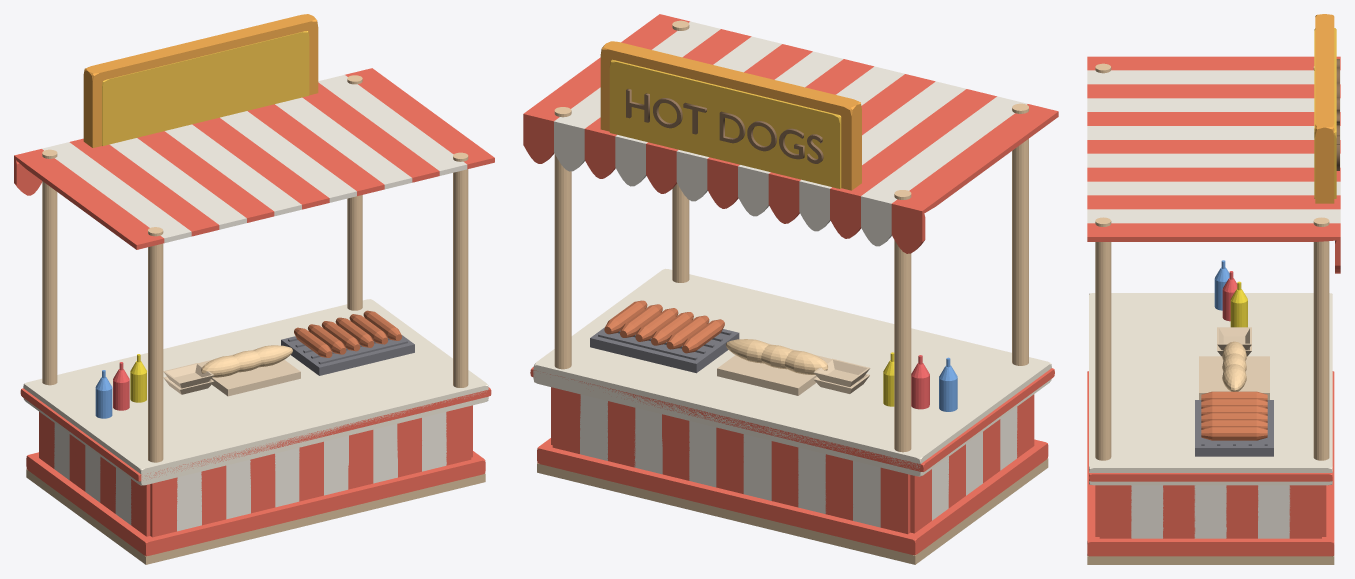
Rendered from 33-hot-dog-stand.glb.
3 renders of one model, left to right at view 1: azimuth 30°, elevation 25°; view 2: azimuth 150°, elevation 25°; view 3: azimuth 270°, elevation 25°, orthographic. The views are drawn at different scales.
Visible parts, largest first — view 1: Canopy, Countertop, SignPlate, BaseTrim, SignFrame, BasePlate, Post_3, Post_2, Post_0, CounterRim, GrillTray, Post_1 (+23 smaller); view 2: Canopy, Countertop, SignPlate, BaseTrim, SignFrame, BasePlate, Post_2, Post_1, CounterRim, Post_0, SignText, GrillTray (+26 smaller); view 3: Canopy, Countertop, BaseTrim, Post_1, Post_3, SignFrame, BasePlate, CounterRim, BunTray, GrillTray, Skirt_right_6, Skirt_right_0 (+16 smaller).
Part boxes in pixels (x1,y1,x2,y2): Canopy: [14, 68, 494, 249]; Countertop: [23, 299, 488, 485]; SignPlate: [102, 31, 309, 145]; BaseTrim: [26, 451, 485, 556]; SignFrame: [83, 14, 318, 147]; BasePlate: [26, 469, 485, 564]; Post_3: [453, 152, 468, 387]; Post_2: [148, 227, 163, 462]; Post_0: [42, 149, 57, 385]; CounterRim: [20, 387, 491, 481]; GrillTray: [281, 335, 414, 375]; Post_1: [347, 75, 362, 310]; Canopy: [523, 14, 1058, 253]; Countertop: [533, 268, 1051, 476]; SignPlate: [609, 59, 841, 188]; BaseTrim: [537, 438, 1048, 555]; SignFrame: [600, 41, 861, 190]; BasePlate: [537, 458, 1048, 564]; Post_2: [1012, 103, 1028, 365]; Post_1: [554, 107, 571, 369]; CounterRim: [530, 367, 1054, 471]; Post_0: [894, 190, 911, 452]; SignText: [626, 89, 823, 163]; GrillTray: [590, 327, 739, 373]; Canopy: [1087, 56, 1340, 273]; Countertop: [1089, 293, 1332, 485]; BaseTrim: [1087, 371, 1334, 556]; Post_1: [1313, 217, 1329, 460]; Post_3: [1095, 217, 1111, 460]; SignFrame: [1315, 14, 1334, 203]; BasePlate: [1087, 556, 1334, 564]; CounterRim: [1089, 473, 1332, 481]; BunTray: [1199, 356, 1269, 399]; GrillTray: [1195, 400, 1273, 456]; Skirt_right_6: [1099, 485, 1131, 538]; Skirt_right_0: [1289, 485, 1321, 538].
Size of the model in its own units: 2.7 by 2.86 by 1.6.
